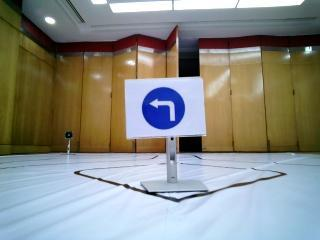left: (127, 82, 208, 137)
